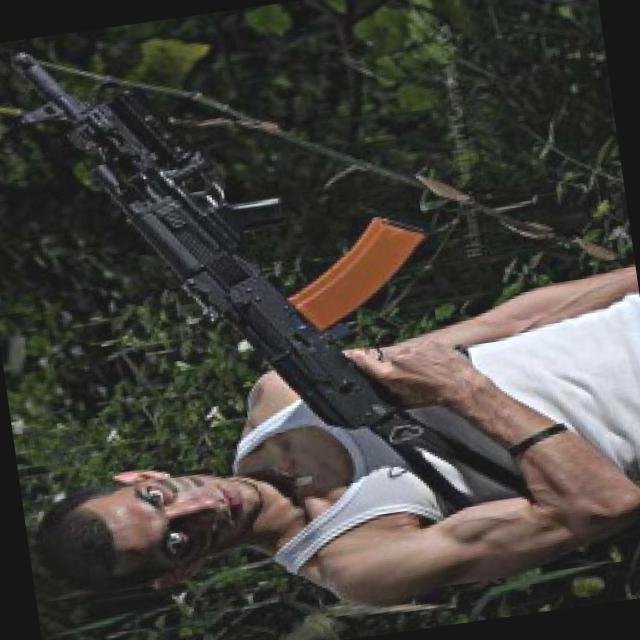long weapon: (0, 0, 477, 480)
